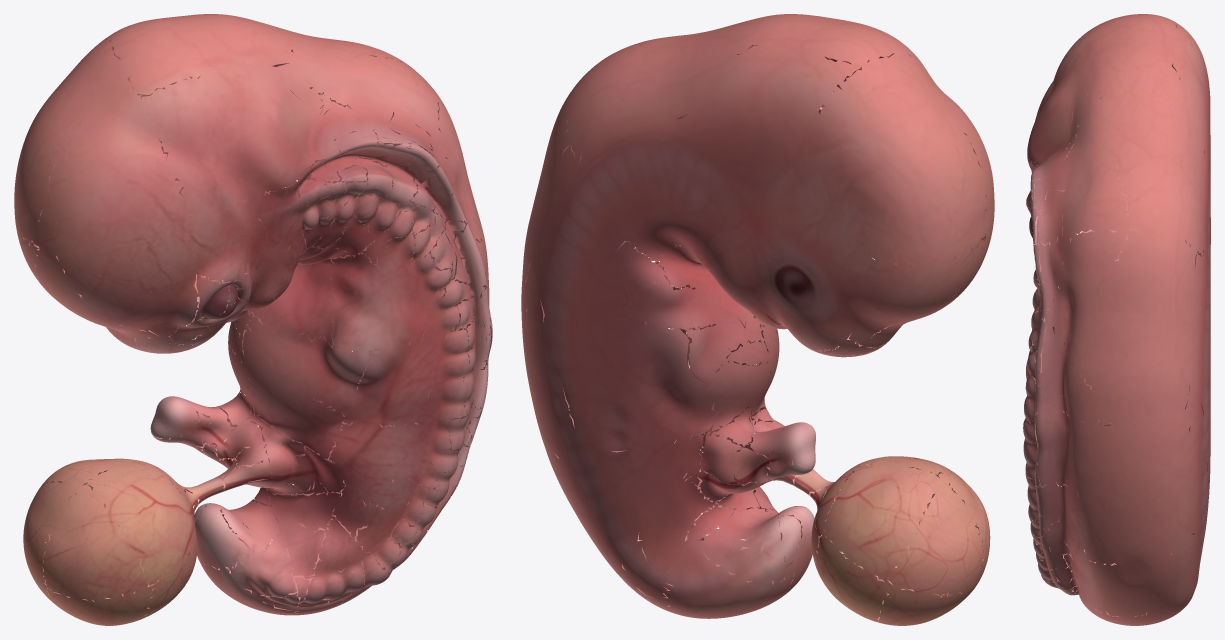
Rendered from stade-04a.glb.
The picture shows the model from 3 angles, left to right: view 1: azimuth 30°, elevation 25°; view 2: azimuth 150°, elevation 25°; view 3: azimuth 270°, elevation 25°; orthographic projection. The views are drawn at different scales.
Bounding box in the file's own units: 1.45 × 1.9 × 0.6056.
Materials: 1 (1 with a texture image).
